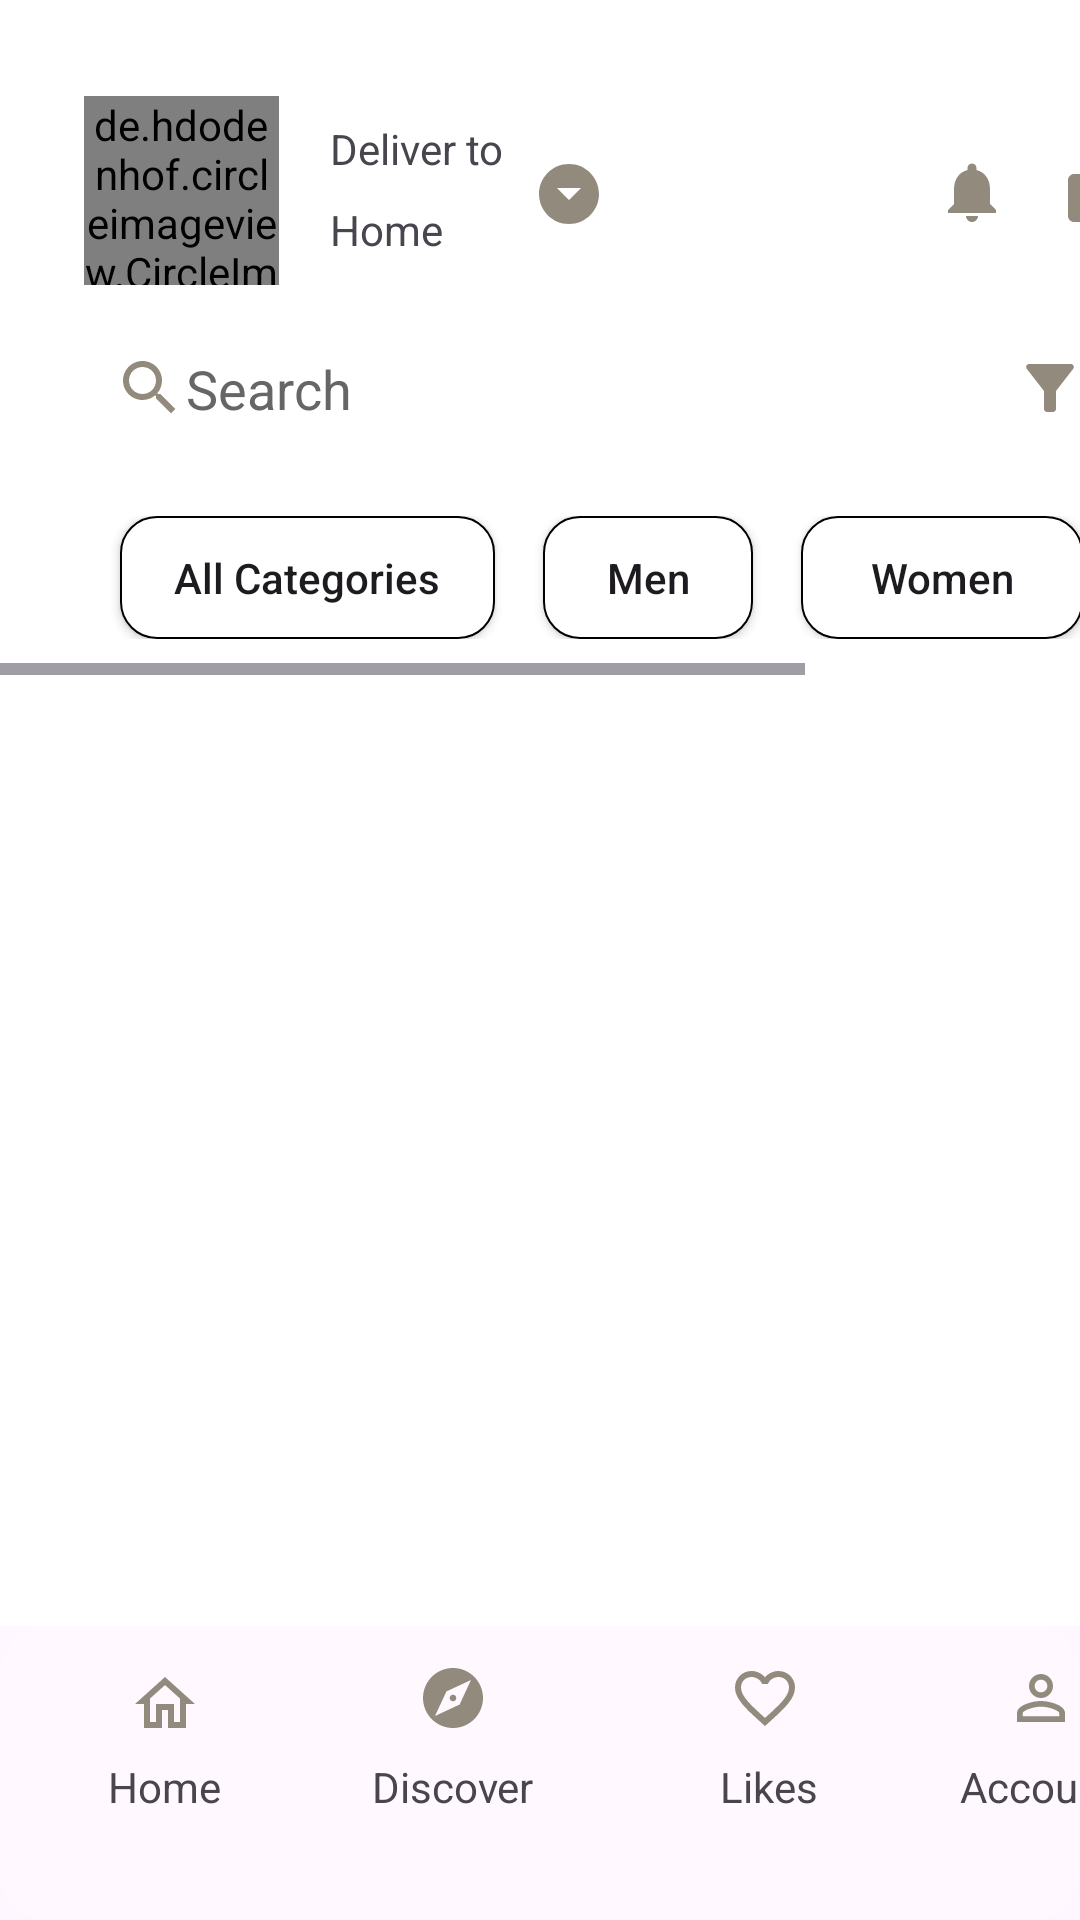

Icons on this 1080w x 1920h Android screen, each with its box as (x1, y1, x2, y2):
arrow drop down circle: (539, 164, 599, 224)
explore: (423, 1668, 483, 1728)
favorite border: (735, 1671, 795, 1726)
notifications: (948, 163, 996, 222)
